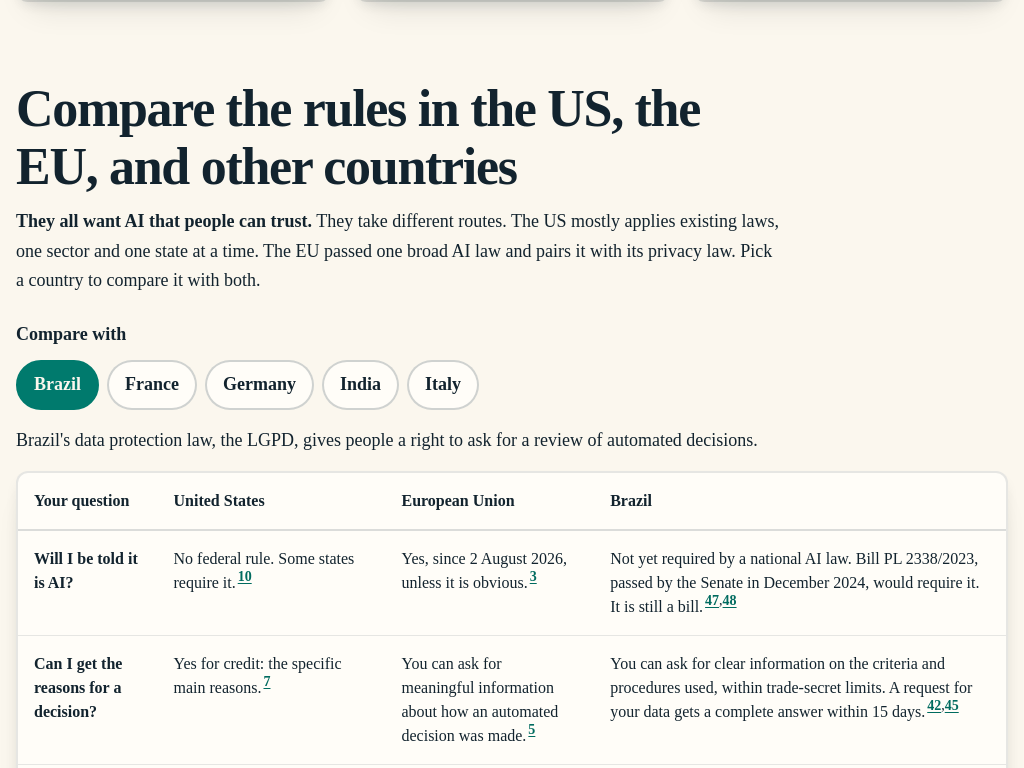
Test: Guide page › cites every France cell, and frames its AI Act oversight as a dated bill
(page scrolled)
Click the radio button labelled "France" at (152, 385), box [107,360,197,410]
(page scrolled)
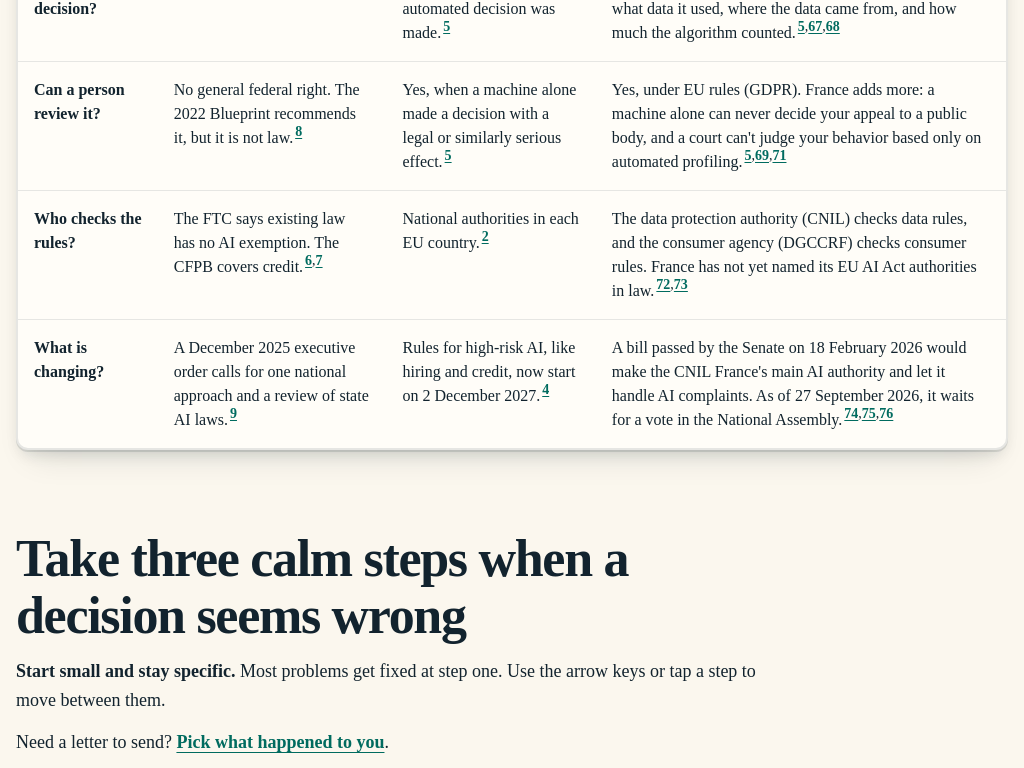
Result: the text "has not yet named its EU AI Act authorities in law" is shown at [612,210,977,299]
Result: the text "A bill passed by the Senate" is shown at [612,339,974,428]
Result: the text "As of 27 September 2026" is shown at [612,339,974,428]
